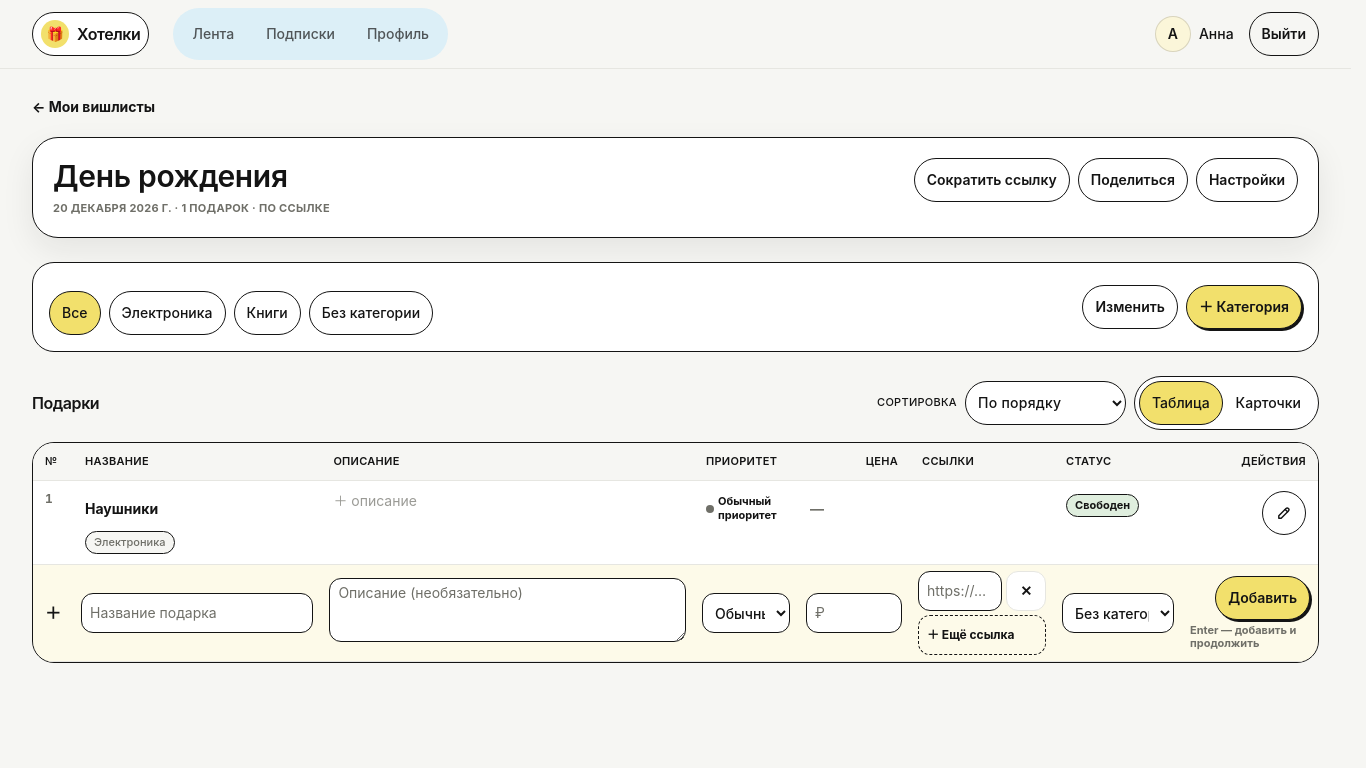
категории: назначение в модалке › снимает назначенный тег и сохраняет пустой массив
Expected: the text "Наушники" is shown, [85,499,158,519]
Click the button named "Редактировать подарок" at (1284, 513), box [1262,491,1306,535]
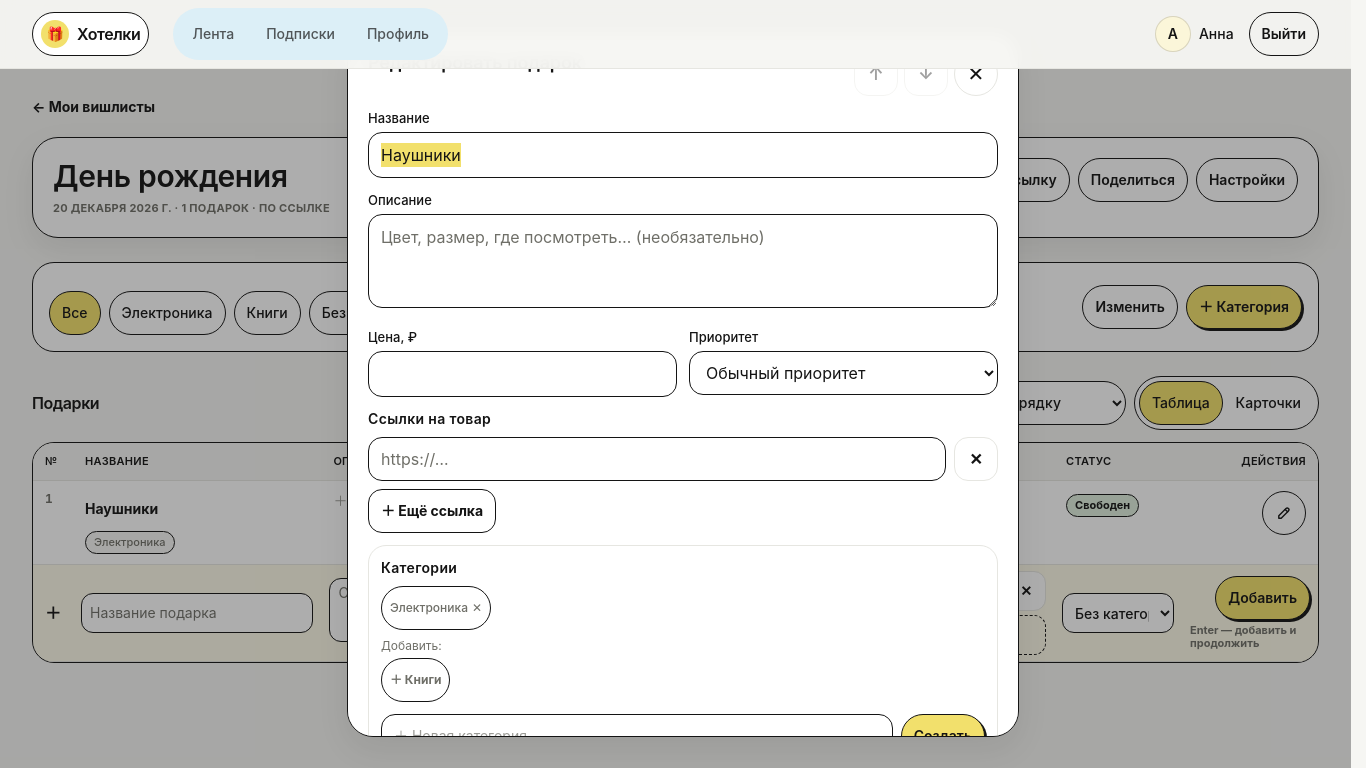
Click the button with aria-label "Снять категорию «Электроника»" at (436, 608), box [381,586,491,630]
(page scrolled)
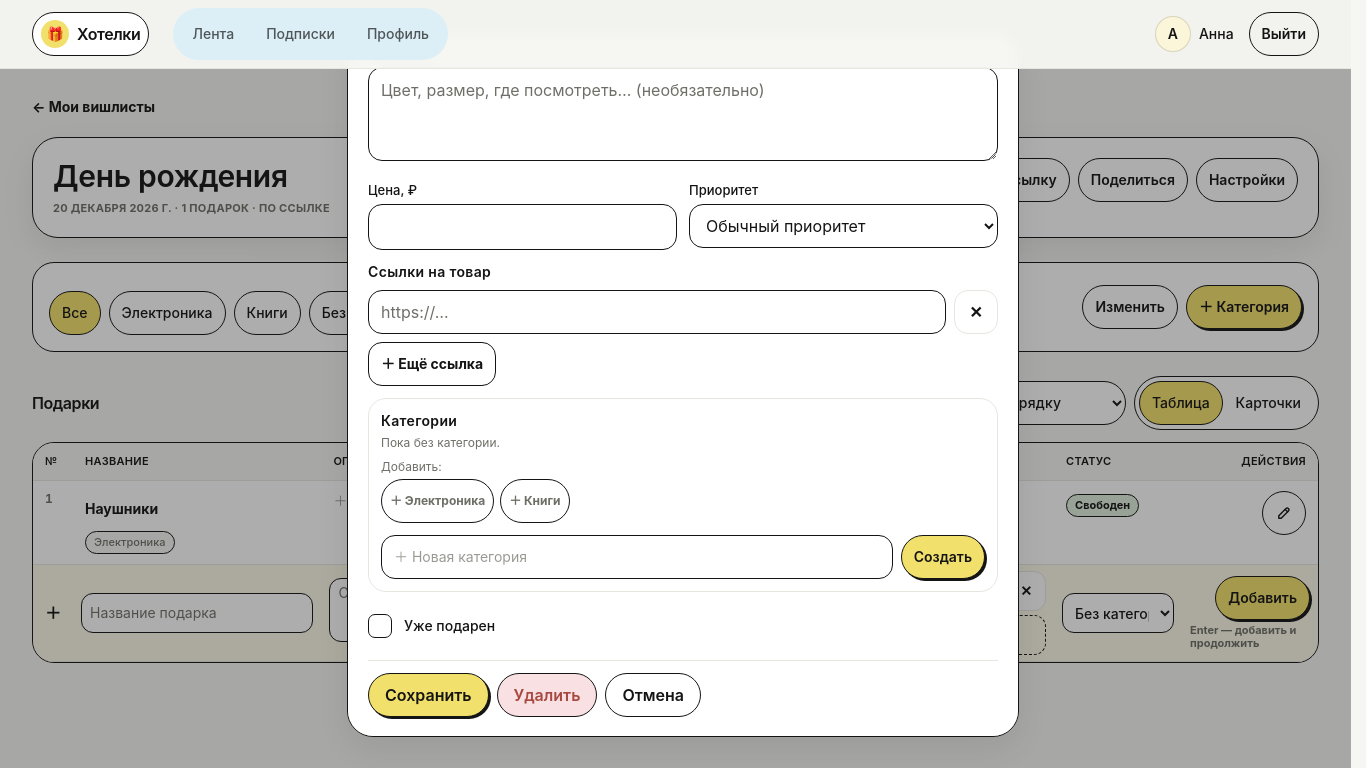
Click the button "Сохранить" at (428, 695), box [368,673,488,717]
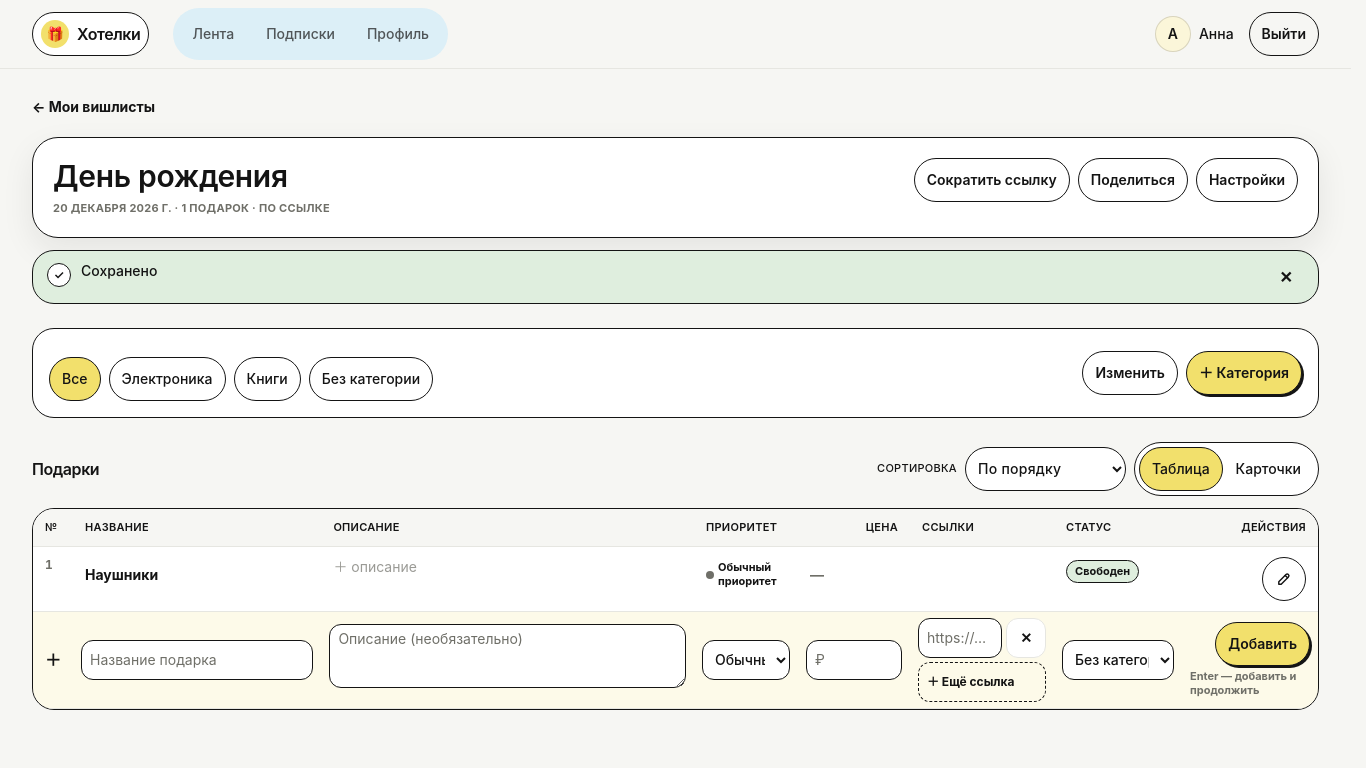
Result: the text "Сохранено" is shown at [81,262,157,278]
